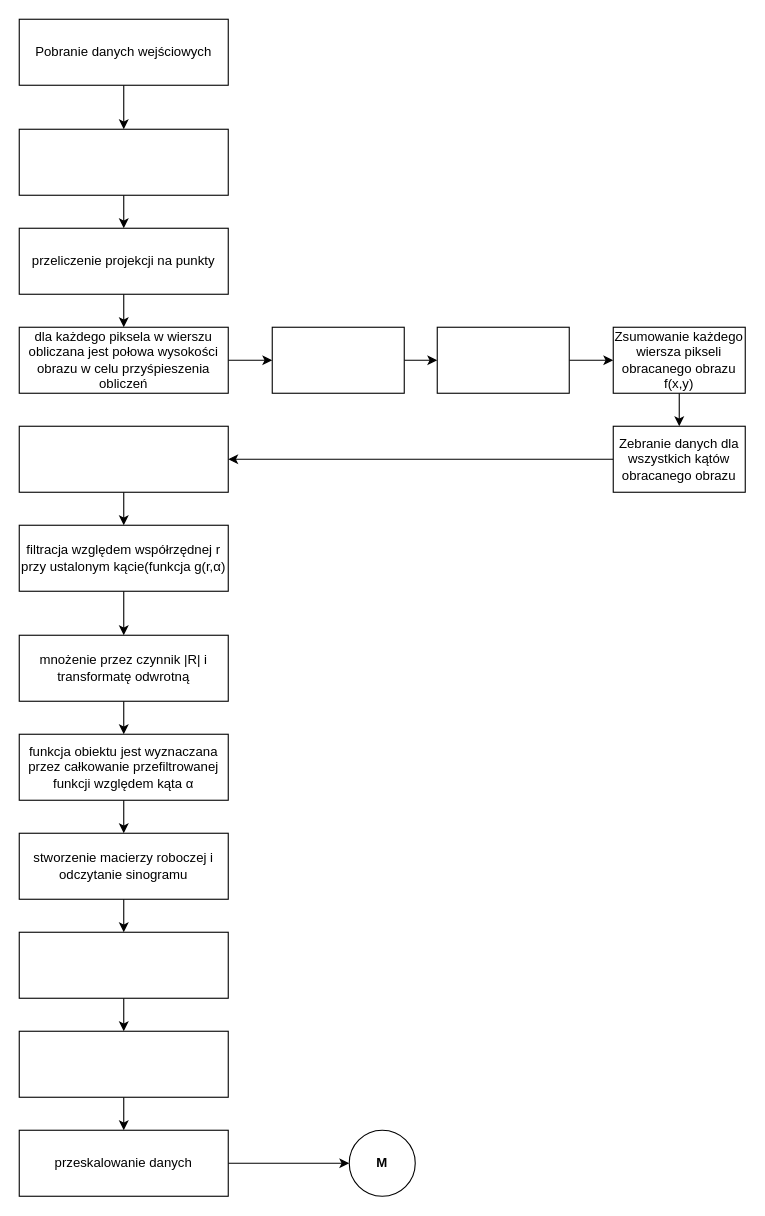
This 765x1216 diagram has some shape labels left out. Each missing label, with the centre of its shape:
"filtracja przy użyciu filtru o charakterystyce |R| lub zmodyfikowanej" belongs at pixel 123 458.
"obrót obrazu" belongs at pixel 337 359.
"otrzymanie zrekonstruowanych punktów" belongs at pixel 123 1063.
"projekcjeψ=0,1,…,ψ-1" belongs at pixel 123 161.
"rekonstrukcja filtrowanego sinogramu" belongs at pixel 123 964.
"wyliczenie nowych współrzędnych dla k i l" belongs at pixel 502 359.
